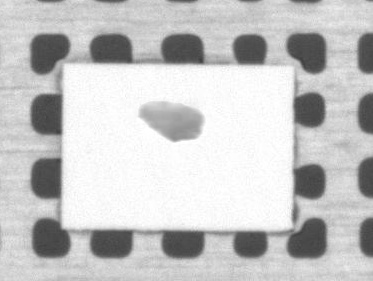DIE_INK: (133, 97, 206, 144)
